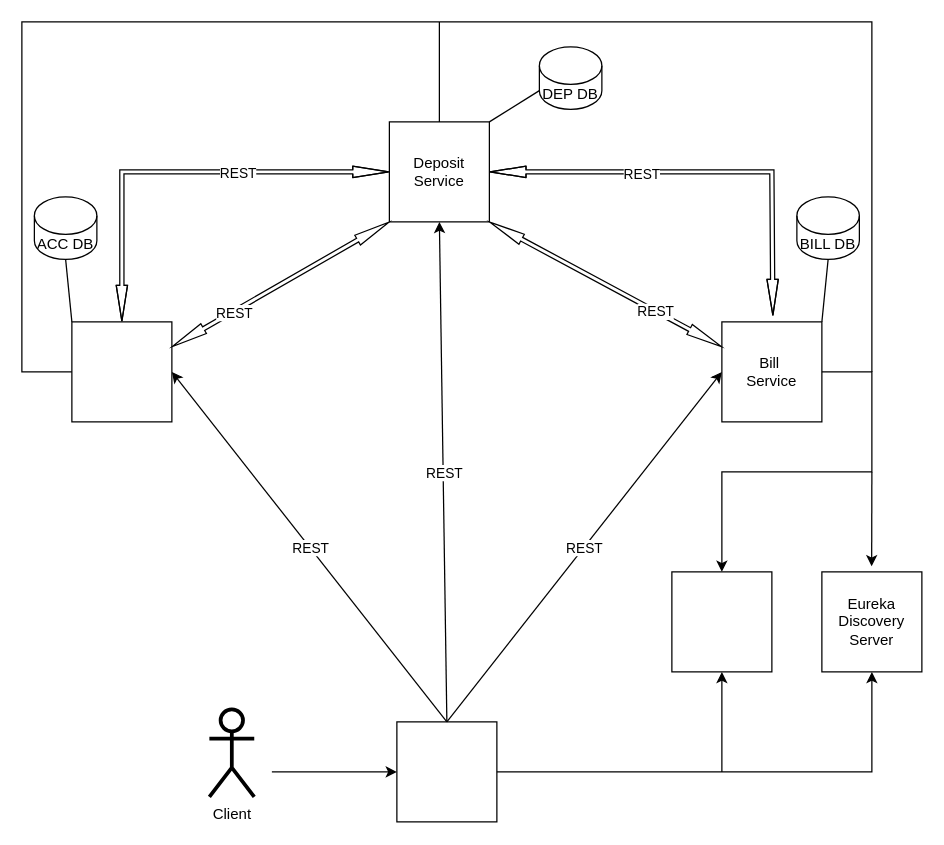
Image size: 944x845. Some labels were removed from this diagram. The shapes that lost their labels are listed below. From the top down, each one's centre as x and y in pixels, then its label:
At point 121,371: "Account Service".
At point 721,621: "Spring Cloud Config Server".
At point 446,771: "Gateway API".
